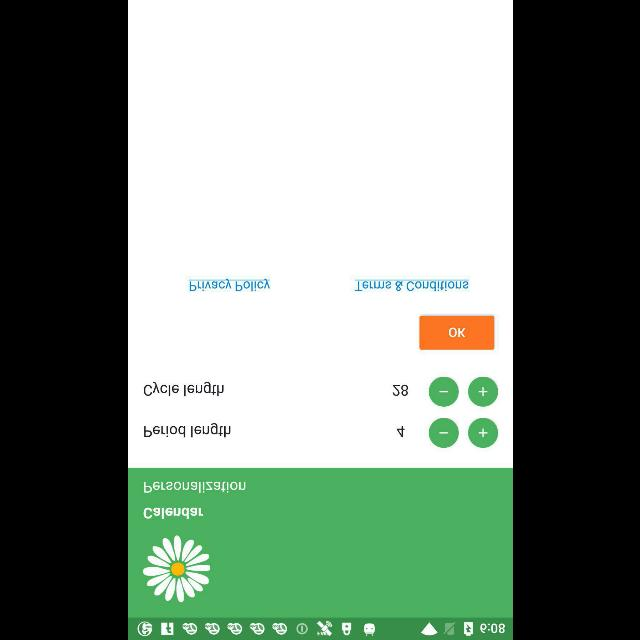icon: (467, 418, 498, 448), (467, 377, 497, 407), (428, 376, 458, 406), (428, 418, 458, 448)
image: (143, 534, 210, 602)
text: (144, 422, 230, 438), (143, 481, 245, 493), (143, 382, 223, 396), (143, 507, 203, 519), (392, 384, 408, 396), (396, 427, 404, 438)
textbutton: (418, 316, 494, 350), (354, 280, 468, 292), (188, 278, 270, 292)
uppertaskbar: (128, 617, 512, 639)
